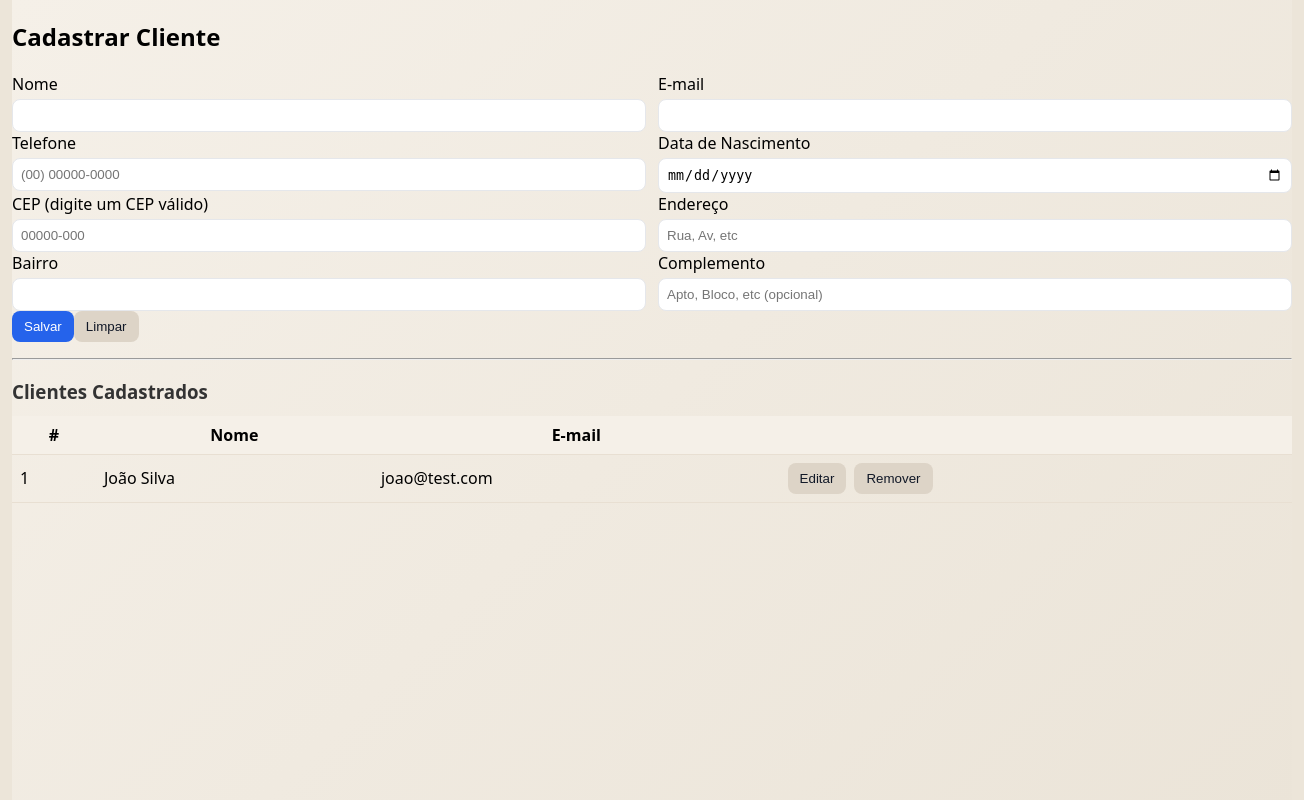
it: Clientes.vue › preenche formulário ao clicar em Editar
Click the button "Editar".
click(817, 478)  # box left=788, top=463, right=846, bottom=494
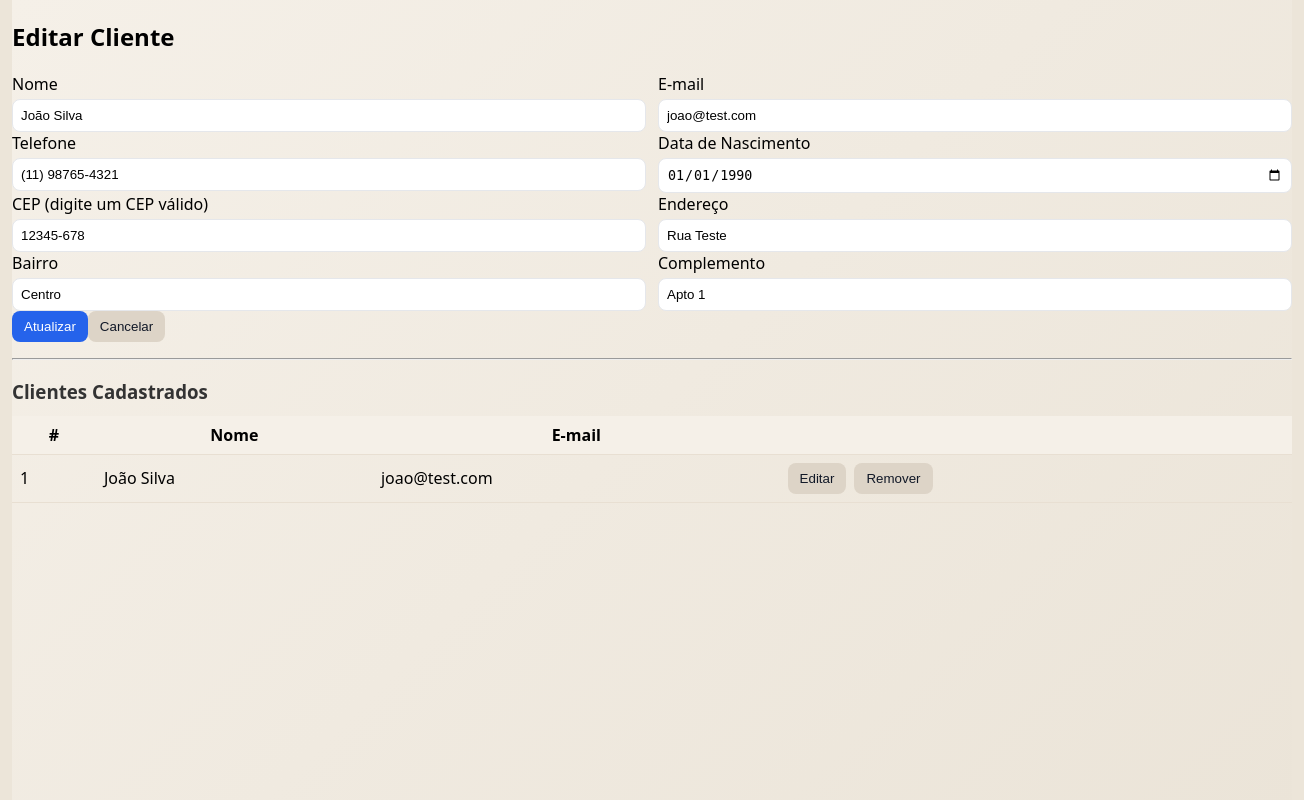
Expected: the heading "Editar Cliente" is shown, left=12, top=20, right=174, bottom=53
Expected: the field labelled "Nome" holds "João Silva", left=12, top=99, right=646, bottom=132
Expected: the field labelled "E-mail" holds "joao@test.com", left=658, top=99, right=1292, bottom=132
